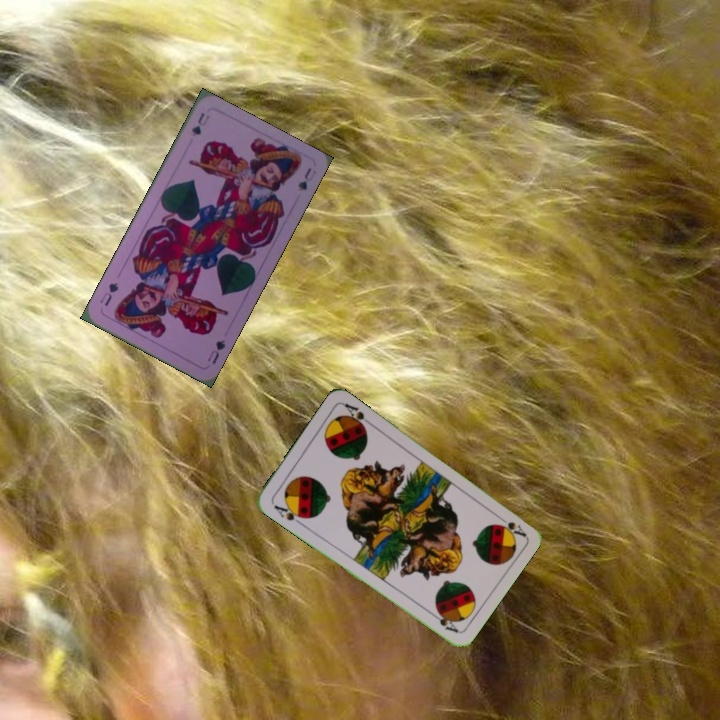GU: (203, 335, 228, 367), (187, 108, 212, 139)
SA: (270, 499, 308, 527), (492, 510, 528, 539)
